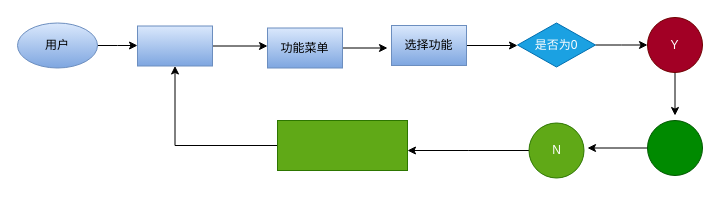
This 720x201 diagram has some shape labels left out. Each missing label, with the centre of its shape:
"主界面" belongs at (x=174, y=45).
"执行相应功能" belongs at (x=342, y=145).
"结束" belongs at (x=674, y=148).
